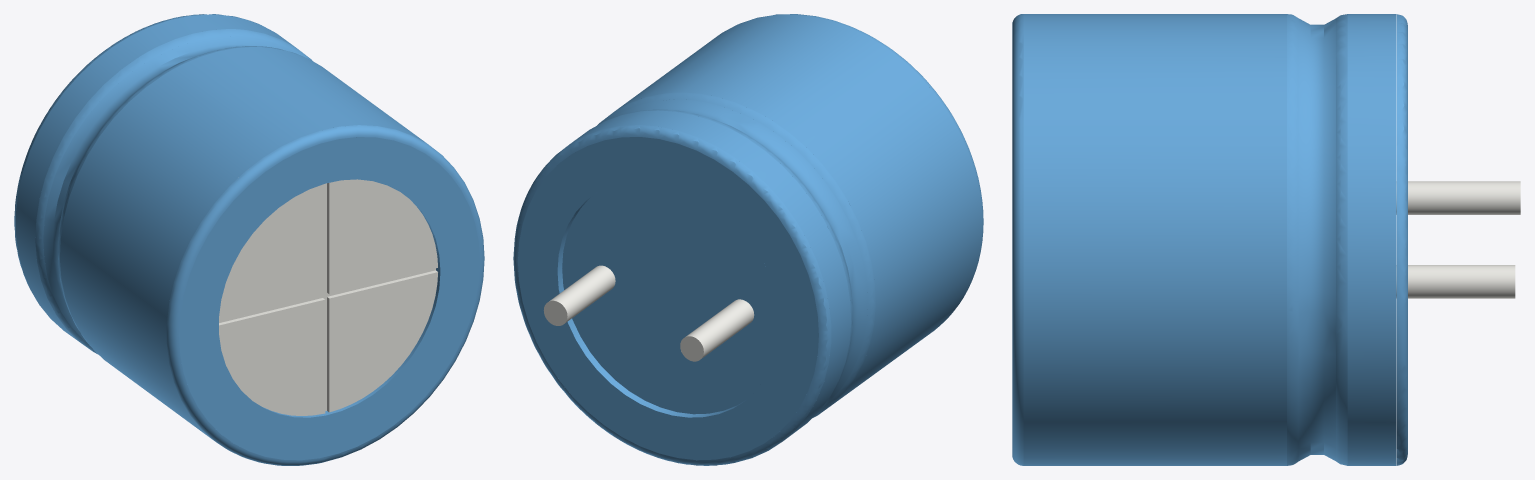
File: C_Radial_D8.0mm_H7.0mm_P3.50mm.glb
3 renders of one model, left to right at view 1: azimuth 30°, elevation 25°; view 2: azimuth 150°, elevation 25°; view 3: azimuth 270°, elevation 25°, orthographic. The views are drawn at different scales.
Visible parts, largest first — view 1: Shape_IndexedFaceSet.012, Shape_IndexedFaceSet.014, Shape_IndexedFaceSet.018, Shape_IndexedFaceSet.021, Shape_IndexedFaceSet.027, Shape_IndexedFaceSet.024, Shape_IndexedFaceSet.008, Shape_IndexedFaceSet.013, Shape_IndexedFaceSet.010, Shape_IndexedFaceSet.009, Shape_IndexedFaceSet.011, Shape_IndexedFaceSet.016 (+2 smaller); view 2: Shape_IndexedFaceSet.012, Shape_IndexedFaceSet.002, Shape_IndexedFaceSet.005, Shape_IndexedFaceSet.008, Shape_IndexedFaceSet.007, Shape_IndexedFaceSet.010, Shape_IndexedFaceSet.011, Shape_IndexedFaceSet.004, Shape_IndexedFaceSet.001, Shape_IndexedFaceSet.003, Shape_IndexedFaceSet.009, Shape_IndexedFaceSet.013 (+2 smaller); view 3: Shape_IndexedFaceSet.012, Shape_IndexedFaceSet.008, Shape_IndexedFaceSet.010, Shape_IndexedFaceSet.011, Shape_IndexedFaceSet.009, Shape_IndexedFaceSet.007, Shape_IndexedFaceSet.013, Shape_IndexedFaceSet.004, Shape_IndexedFaceSet.001.
Boxes of the visible parts, x1=… form: Shape_IndexedFaceSet.012: x1=60, y1=47, x2=425, y2=439; Shape_IndexedFaceSet.014: x1=179, y1=137, x2=479, y2=460; Shape_IndexedFaceSet.018: x1=329, y1=272, x2=437, y2=412; Shape_IndexedFaceSet.021: x1=219, y1=299, x2=325, y2=415; Shape_IndexedFaceSet.027: x1=329, y1=179, x2=437, y2=294; Shape_IndexedFaceSet.024: x1=219, y1=184, x2=325, y2=321; Shape_IndexedFaceSet.008: x1=16, y1=14, x2=295, y2=343; Shape_IndexedFaceSet.013: x1=166, y1=125, x2=484, y2=465; Shape_IndexedFaceSet.010: x1=43, y1=36, x2=298, y2=342; Shape_IndexedFaceSet.009: x1=35, y1=29, x2=312, y2=354; Shape_IndexedFaceSet.011: x1=58, y1=46, x2=314, y2=355; Shape_IndexedFaceSet.016: x1=219, y1=183, x2=435, y2=410; Shape_IndexedFaceSet.012: x1=615, y1=14, x2=981, y2=403; Shape_IndexedFaceSet.002: x1=562, y1=179, x2=778, y2=414; Shape_IndexedFaceSet.005: x1=518, y1=137, x2=818, y2=460; Shape_IndexedFaceSet.008: x1=572, y1=110, x2=851, y2=440; Shape_IndexedFaceSet.007: x1=513, y1=125, x2=831, y2=465; Shape_IndexedFaceSet.010: x1=611, y1=99, x2=867, y2=406; Shape_IndexedFaceSet.011: x1=597, y1=92, x2=875, y2=417; Shape_IndexedFaceSet.004: x1=686, y1=299, x2=754, y2=358; Shape_IndexedFaceSet.001: x1=549, y1=265, x2=615, y2=322; Shape_IndexedFaceSet.003: x1=557, y1=197, x2=745, y2=417; Shape_IndexedFaceSet.009: x1=609, y1=109, x2=852, y2=405; Shape_IndexedFaceSet.013: x1=722, y1=14, x2=983, y2=327; Shape_IndexedFaceSet.012: x1=1023, y1=14, x2=1286, y2=465; Shape_IndexedFaceSet.008: x1=1347, y1=14, x2=1396, y2=465; Shape_IndexedFaceSet.010: x1=1298, y1=18, x2=1335, y2=460; Shape_IndexedFaceSet.011: x1=1287, y1=14, x2=1298, y2=465; Shape_IndexedFaceSet.009: x1=1336, y1=14, x2=1347, y2=465; Shape_IndexedFaceSet.007: x1=1396, y1=14, x2=1407, y2=465; Shape_IndexedFaceSet.013: x1=1012, y1=14, x2=1023, y2=465; Shape_IndexedFaceSet.004: x1=1396, y1=181, x2=1520, y2=214; Shape_IndexedFaceSet.001: x1=1396, y1=265, x2=1515, y2=298.
Size of the model in its own units: 3.15 by 3.15 by 3.54.
